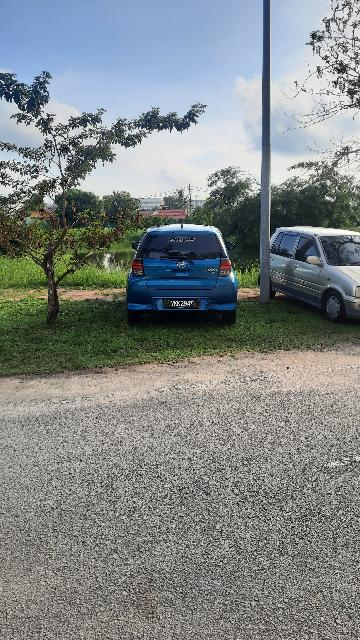License_Plate: (163, 298, 201, 310)
car: (124, 221, 240, 325), (269, 217, 360, 319)
